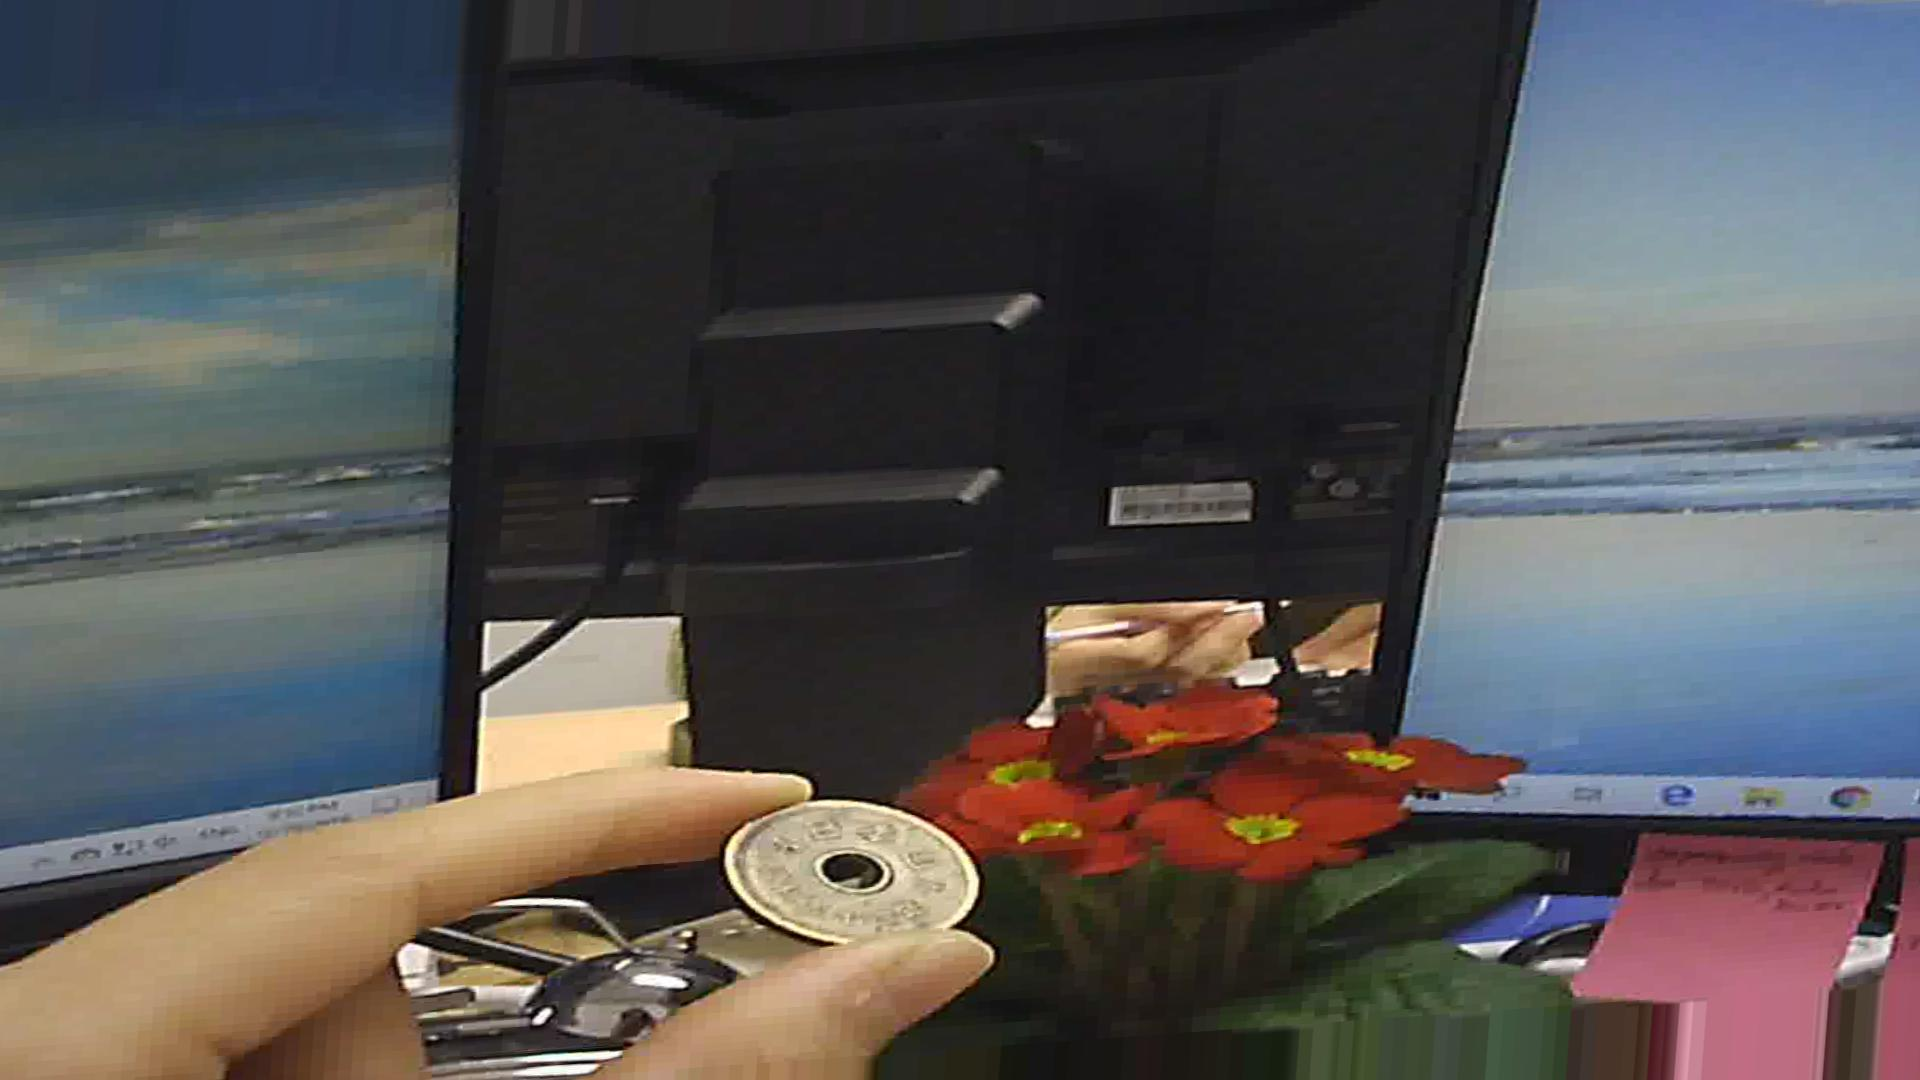5 Yen: (724, 777, 984, 939)
